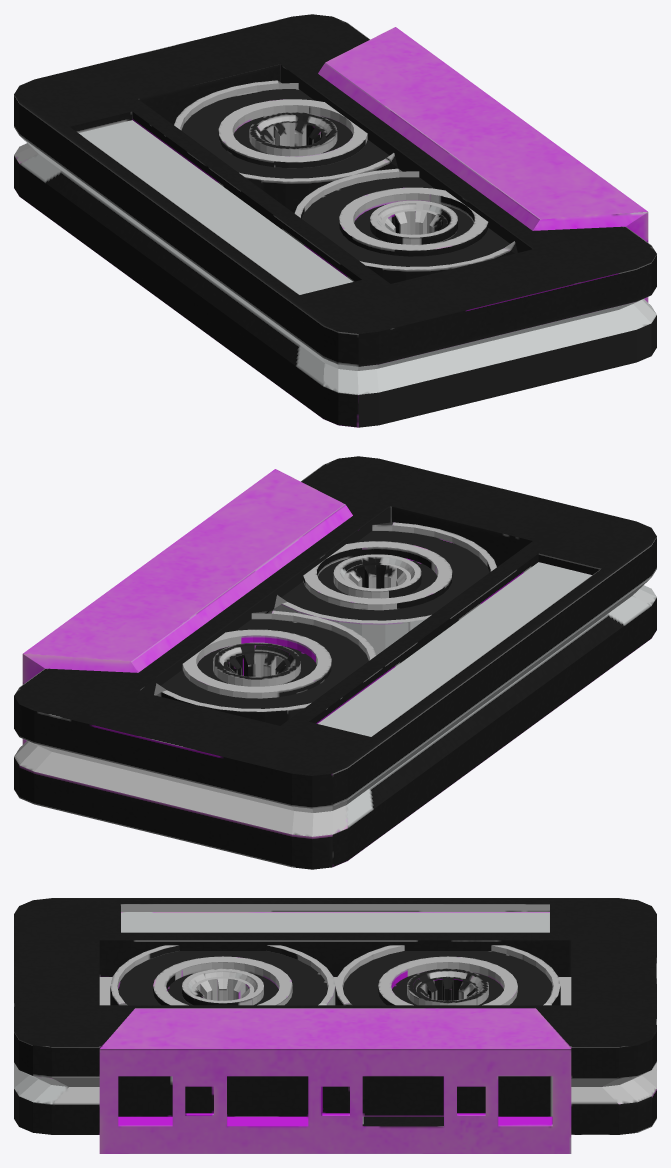
The model's file is cassete4.fbx.
The picture shows the model from 3 angles, top to bottom: view 1: azimuth 30°, elevation 25°; view 2: azimuth 150°, elevation 25°; view 3: azimuth 270°, elevation 25°; orthographic projection. The views are drawn at different scales.
Visible parts, largest first — view 1: Cube; view 2: Cube; view 3: Cube.
Part boxes in pixels (box(x1,y1,x2,y2)): Cube: box(14, 14, 656, 427); Cube: box(14, 456, 656, 869); Cube: box(14, 898, 656, 1153).
Bounding box in the file's own units: 235 × 72 × 400.
1 material, 1 textured.
